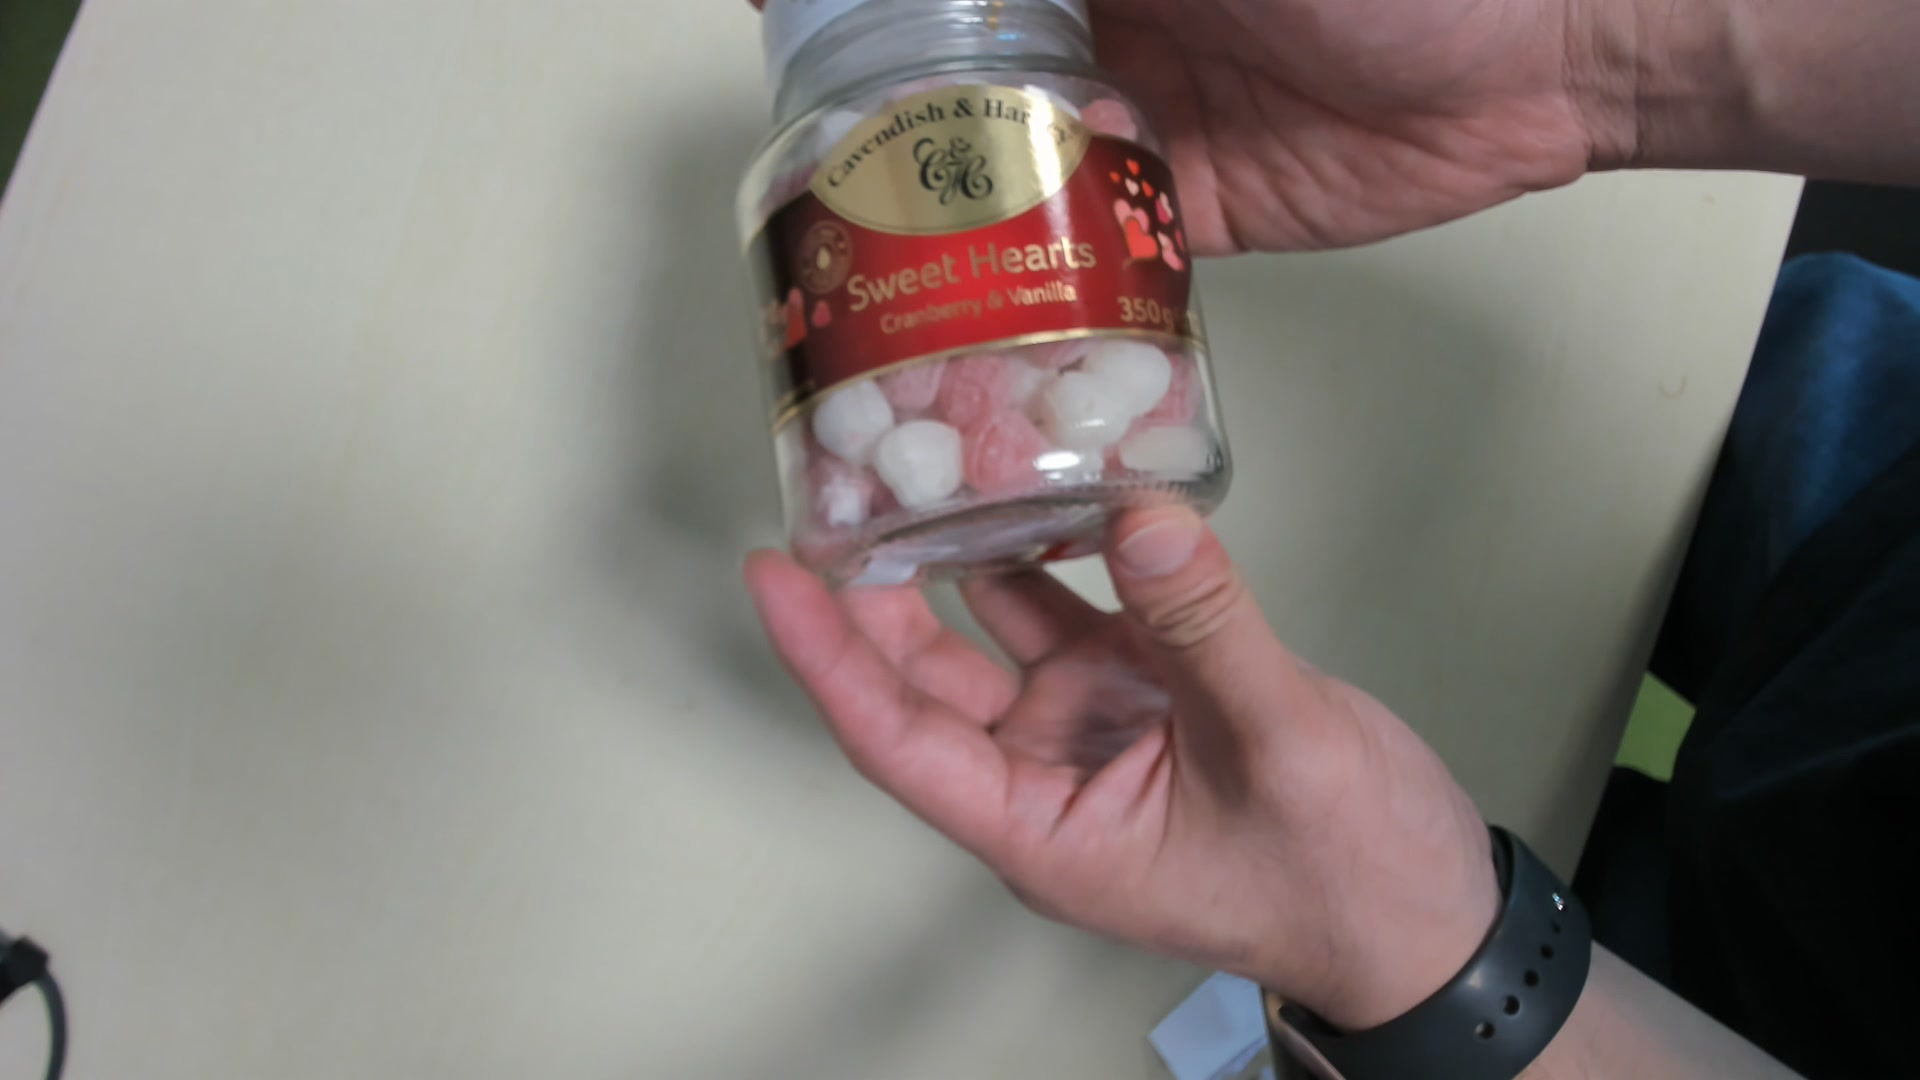SweetsChocolatesOthers_300-399g_NonHalal_Nonhealthy: (729, 1, 1242, 589)
